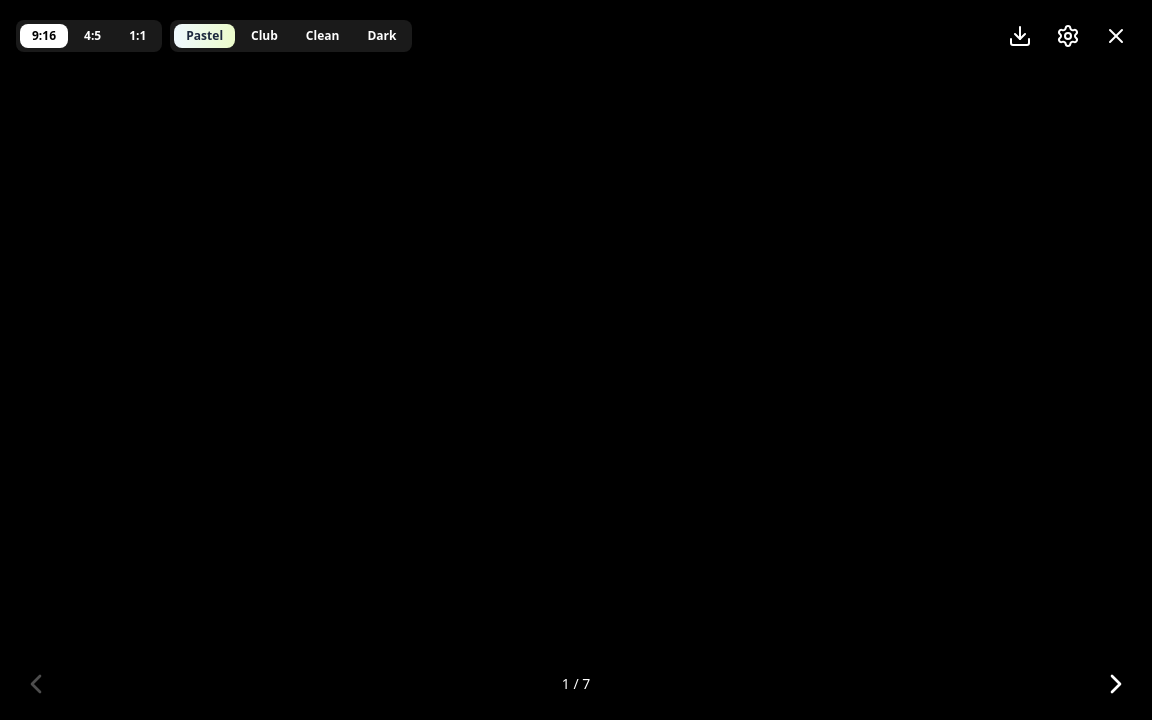
Test: StoryModeOverlay › should navigate to next slide when next button is clicked
This screenshot has width=1152, height=720.
Expected: the text "1 / 7" is shown, left=562, top=674, right=590, bottom=694
Note: Click next
Click the button named "Next slide" at (1116, 684), box left=1096, top=664, right=1136, bottom=704
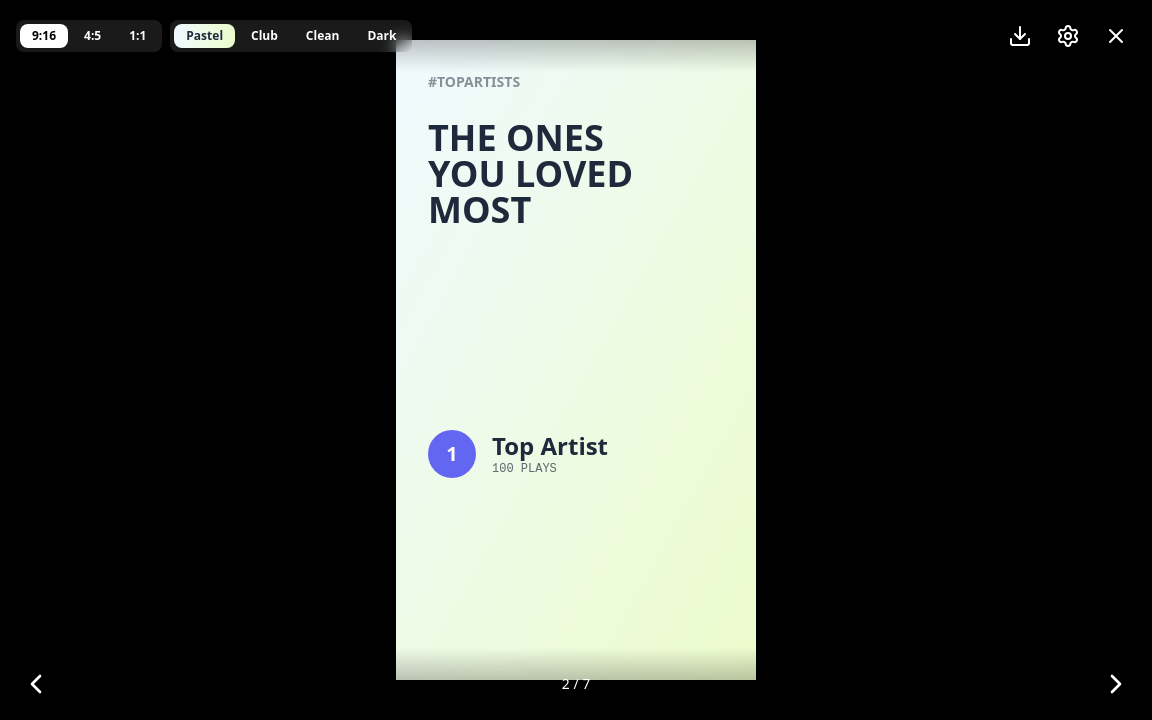
Now the text "2 / 7" is shown, box left=562, top=674, right=590, bottom=694
